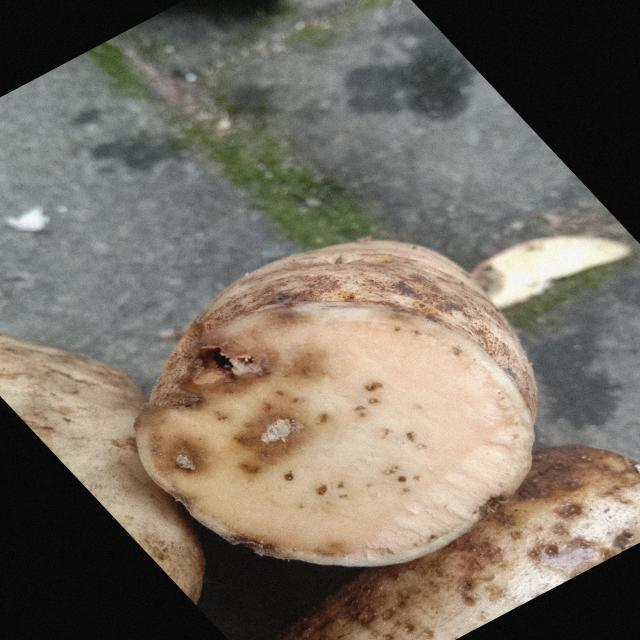Sick Sweet Potato_Tuber Rot: (137, 304, 533, 566)
